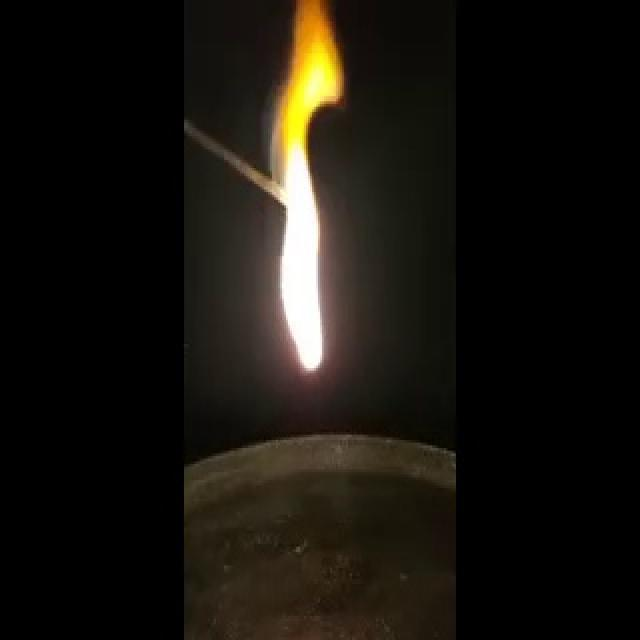fire: (270, 62, 348, 398)
